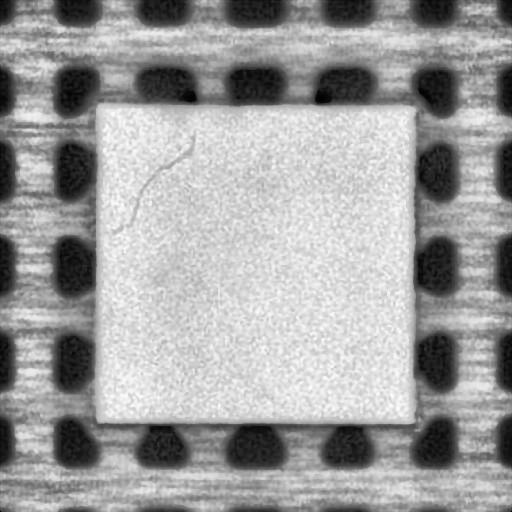DIE_CRACK: (108, 133, 194, 236)
